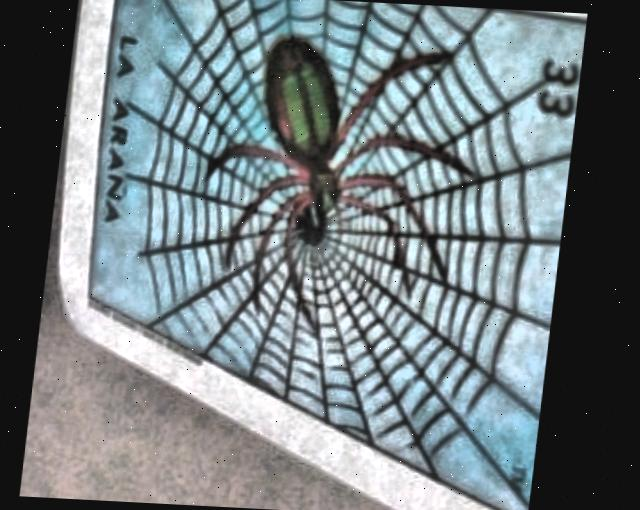La Botella: (94, 0, 585, 510)
